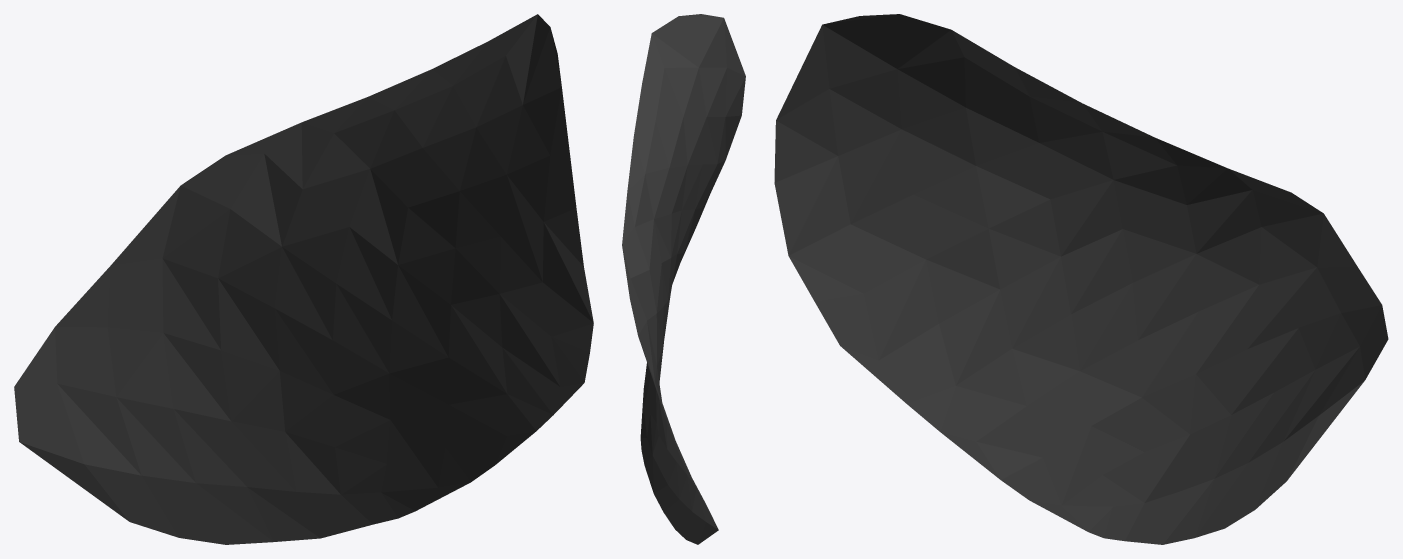
File: extensor_groove_e.glb
3 renders of one model, left to right at view 1: azimuth 30°, elevation 25°; view 2: azimuth 150°, elevation 25°; view 3: azimuth 270°, elevation 25°, orthographic. The views are drawn at different scales.
Parts seen in each view (by area): view 1: extensor_groove_e; view 2: extensor_groove_e; view 3: extensor_groove_e.
Boxes of the visible parts, x1,y1,x2,y2 form: extensor_groove_e: (14, 14, 593, 544); extensor_groove_e: (622, 14, 745, 544); extensor_groove_e: (774, 14, 1388, 544).
Bounding box in the file's own units: 0.000715 × 0.00133 × 0.00125.
Materials: 1 (1 with a texture image).
